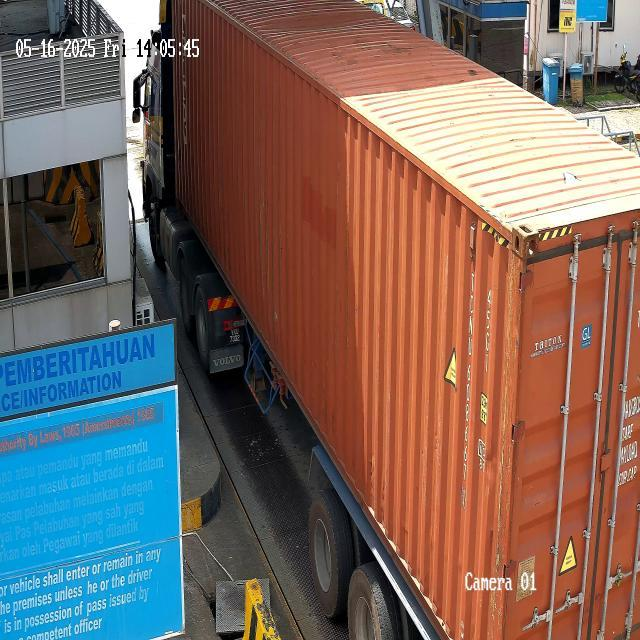ISO: (478, 286, 496, 374)
container_number: (448, 270, 479, 514)
